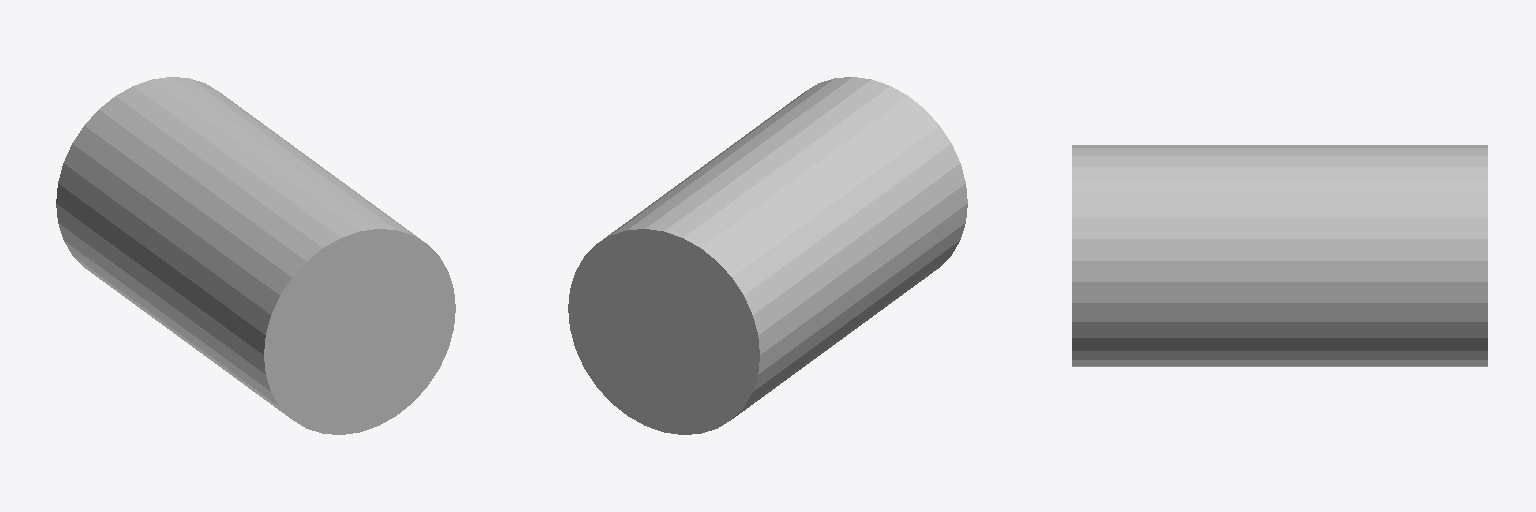
File: arm_link6.OBJ
3 renders of one model, left to right at view 1: azimuth 30°, elevation 25°; view 2: azimuth 150°, elevation 25°; view 3: azimuth 270°, elevation 25°, orthographic.
Parts seen in each view (by area): view 1: arm_link6_Cylinder.006; view 2: arm_link6_Cylinder.006; view 3: arm_link6_Cylinder.006.
Boxes of the visible parts, x1=… form: arm_link6_Cylinder.006: x1=56, y1=77, x2=455, y2=434; arm_link6_Cylinder.006: x1=568, y1=77, x2=967, y2=434; arm_link6_Cylinder.006: x1=1072, y1=145, x2=1487, y2=366.
Size of the model in its own units: 0.2494 by 0.2494 by 0.4674.